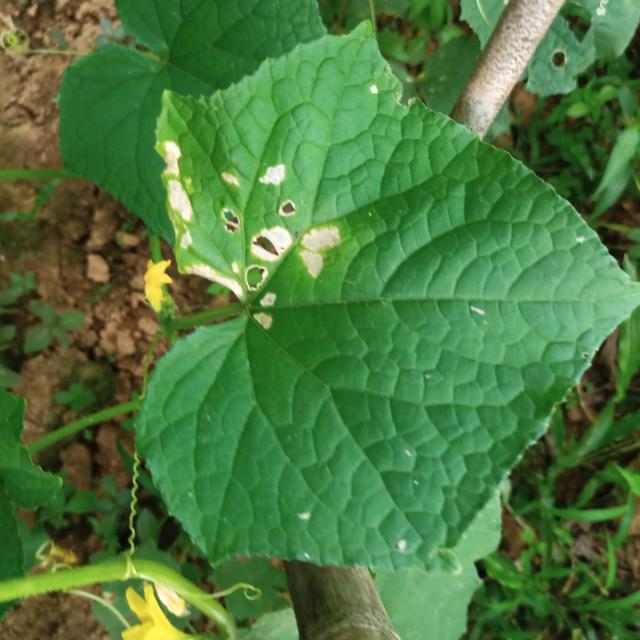disease_cucumber: (163, 136, 341, 329)
